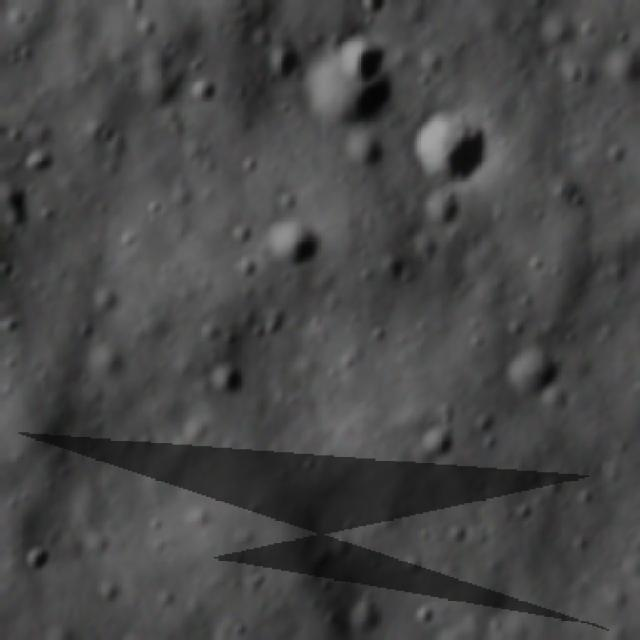crater: (297, 37, 405, 140), (402, 109, 495, 194), (496, 340, 564, 412), (255, 216, 323, 278), (335, 30, 396, 84), (404, 197, 467, 240), (198, 362, 245, 416), (408, 418, 450, 477), (13, 532, 62, 574), (0, 187, 31, 244), (265, 47, 301, 95), (179, 75, 218, 112), (360, 0, 391, 23)
